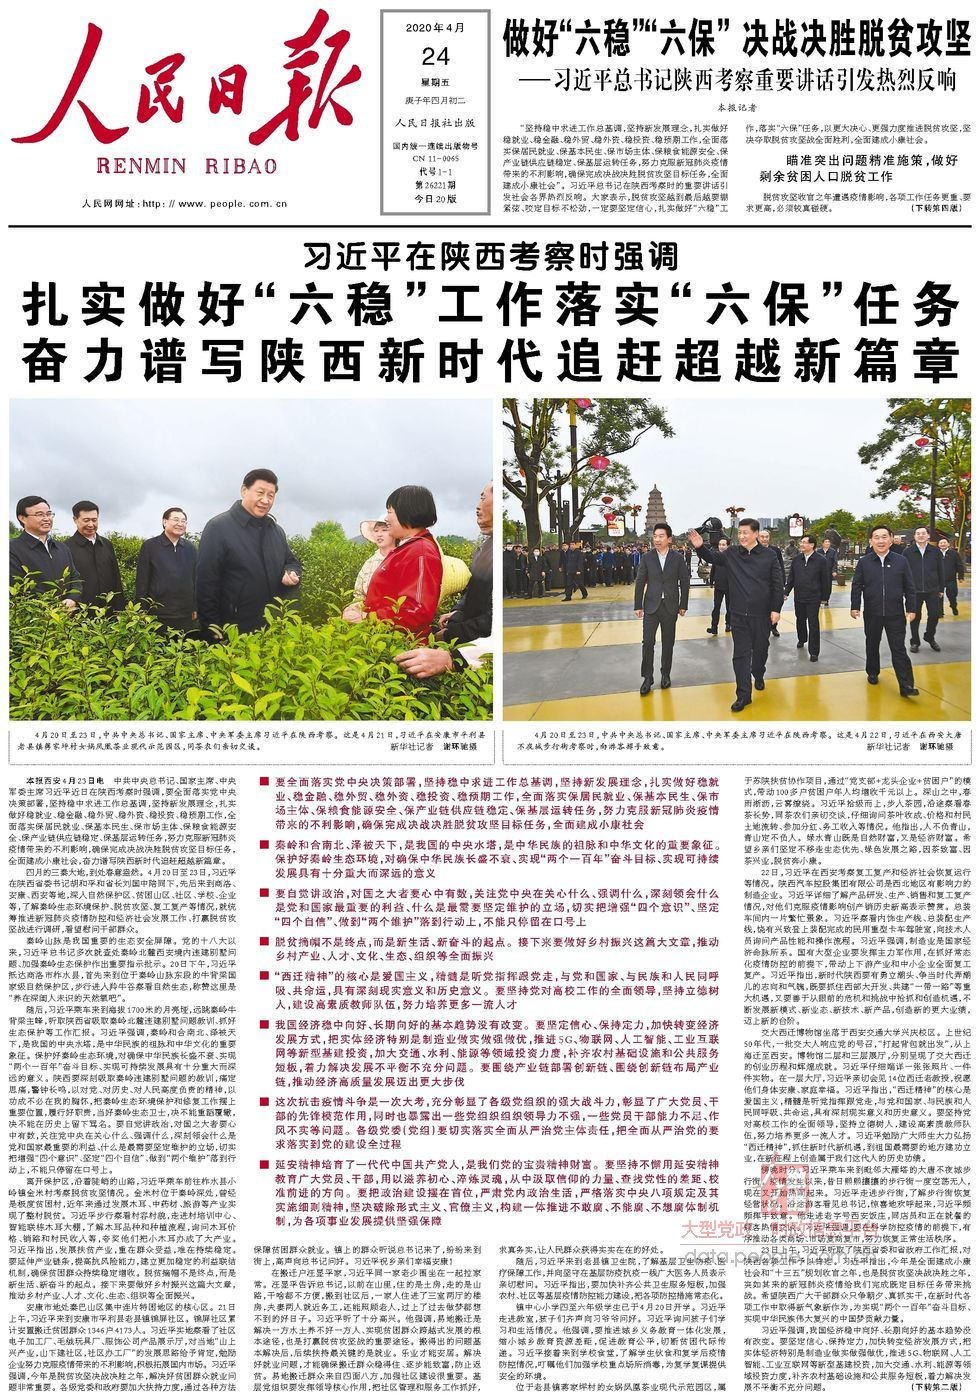pic: (6, 395, 499, 726), (500, 395, 975, 728)
